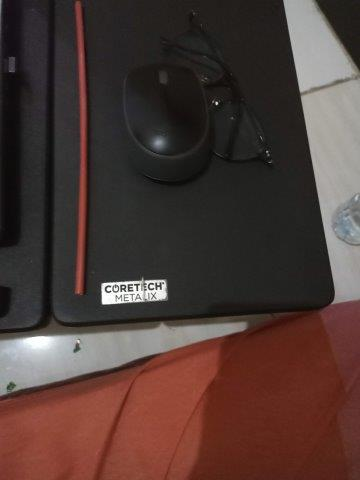sedotan: (74, 4, 88, 293)
